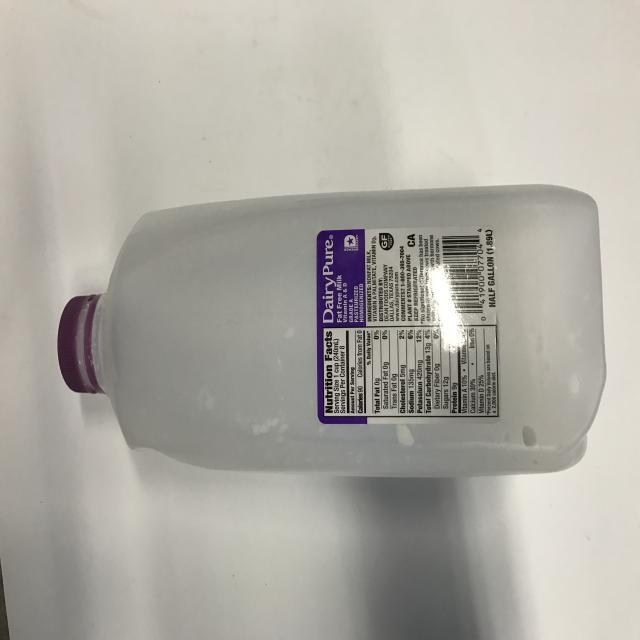plastic: (55, 181, 608, 488)
